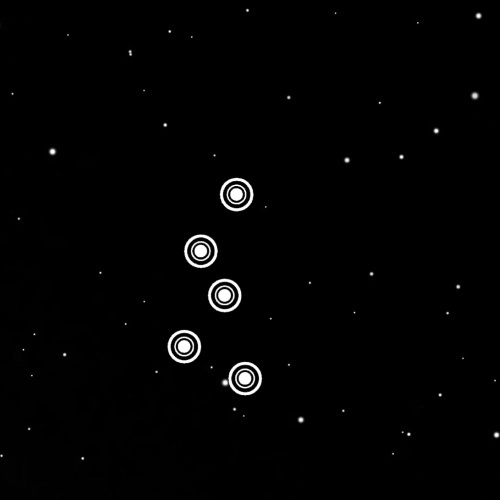cassiopeia: (162, 170, 270, 400)
